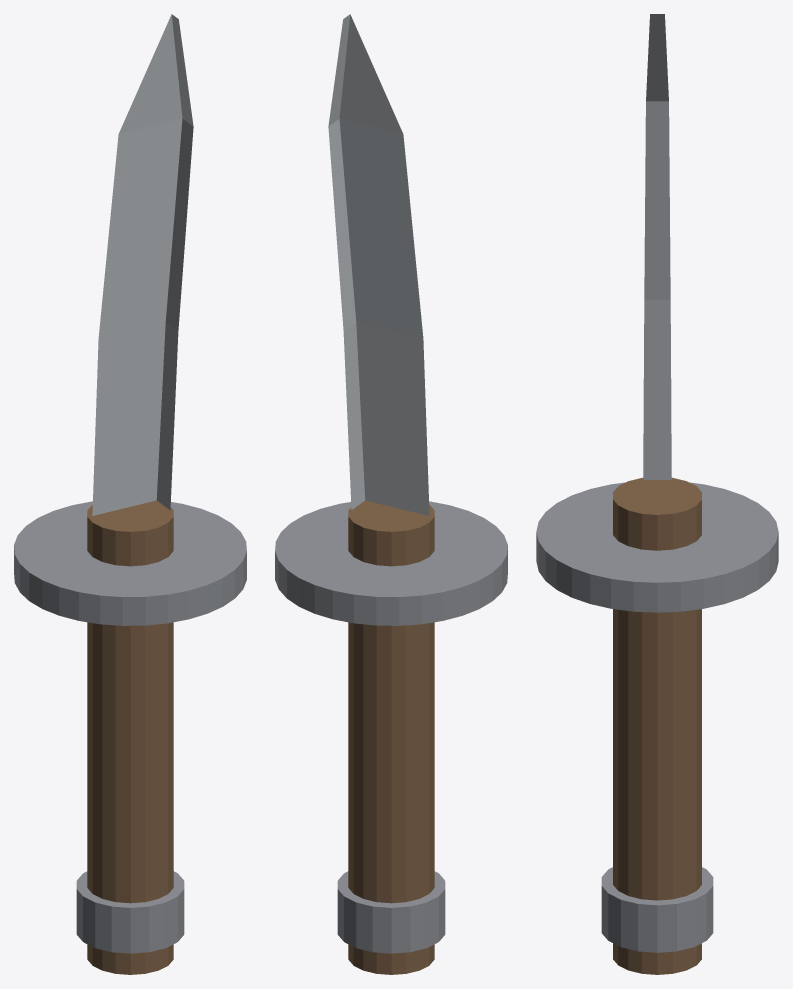
The model's file is broken_katana.glb.
The picture shows the model from 3 angles, left to right: view 1: azimuth 30°, elevation 25°; view 2: azimuth 150°, elevation 25°; view 3: azimuth 270°, elevation 25°; orthographic projection. The views are drawn at different scales.
Parts seen in each view (by area): view 1: sword_0_0, sword_0_2, sword_0_1, sword_0_3; view 2: sword_0_0, sword_0_2, sword_0_1, sword_0_3; view 3: sword_0_2, sword_0_1, sword_0_0, sword_0_3.
Boxes of the visible parts, <box> form: sword_0_0: <box>92,14,193,515</box>; sword_0_2: <box>87,500,173,974</box>; sword_0_1: <box>14,501,246,625</box>; sword_0_3: <box>76,871,184,953</box>; sword_0_0: <box>328,14,429,515</box>; sword_0_2: <box>348,500,434,974</box>; sword_0_1: <box>275,501,507,625</box>; sword_0_3: <box>337,871,445,953</box>; sword_0_2: <box>613,477,701,974</box>; sword_0_1: <box>536,482,778,612</box>; sword_0_0: <box>643,14,671,479</box>; sword_0_3: <box>601,867,713,952</box>.
Bounding box in the file's own units: 0.5879 × 2.58 × 0.5879.
